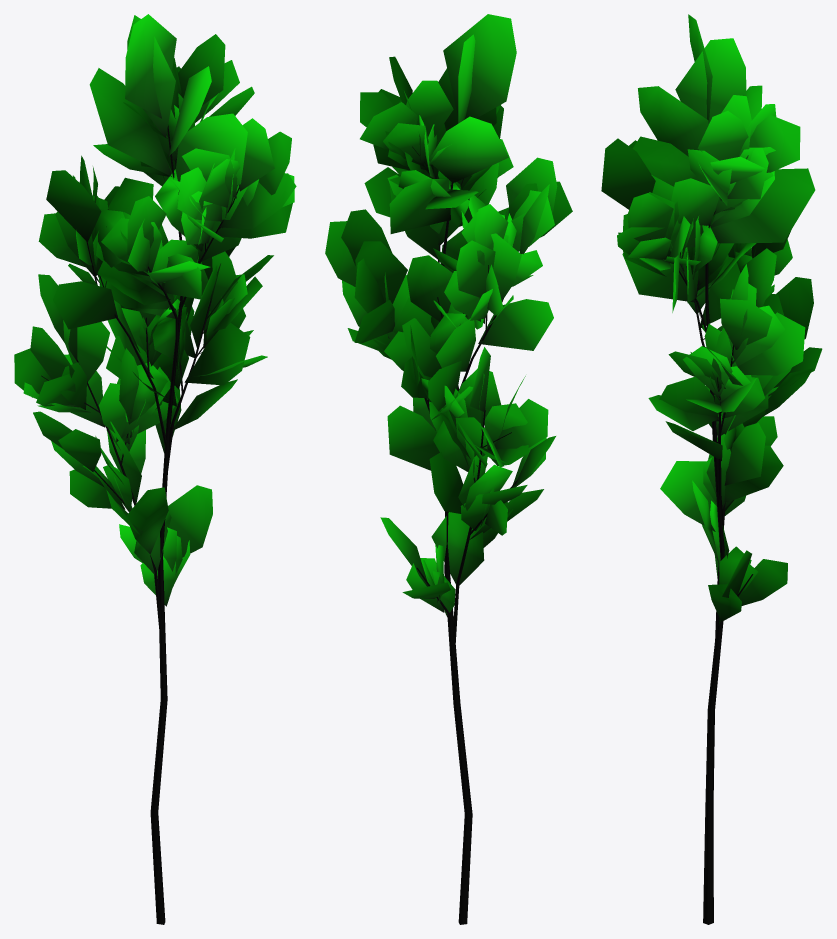
Rendered from Oak_Small_7_LOD_1.fbx.
3 views of the same model, side by side, from view 1: azimuth 30°, elevation 25°; view 2: azimuth 150°, elevation 25°; view 3: azimuth 270°, elevation 25° (orthographic). The views are drawn at different scales.
Parts seen in each view (by area): view 1: Oak_Small_7_Branch_Med; view 2: Oak_Small_7_Branch_Med; view 3: Oak_Small_7_Branch_Med.
Part boxes in pixels (x1,y1,x2,y2): Oak_Small_7_Branch_Med: (14, 14, 296, 924); Oak_Small_7_Branch_Med: (325, 14, 572, 924); Oak_Small_7_Branch_Med: (601, 14, 822, 924).
Size of the model in its own units: 4.46 by 17.3 by 3.88.
